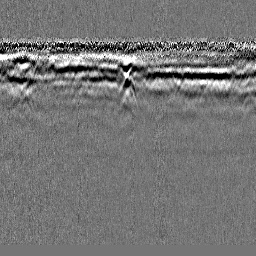cavity: (118, 73, 137, 101)
